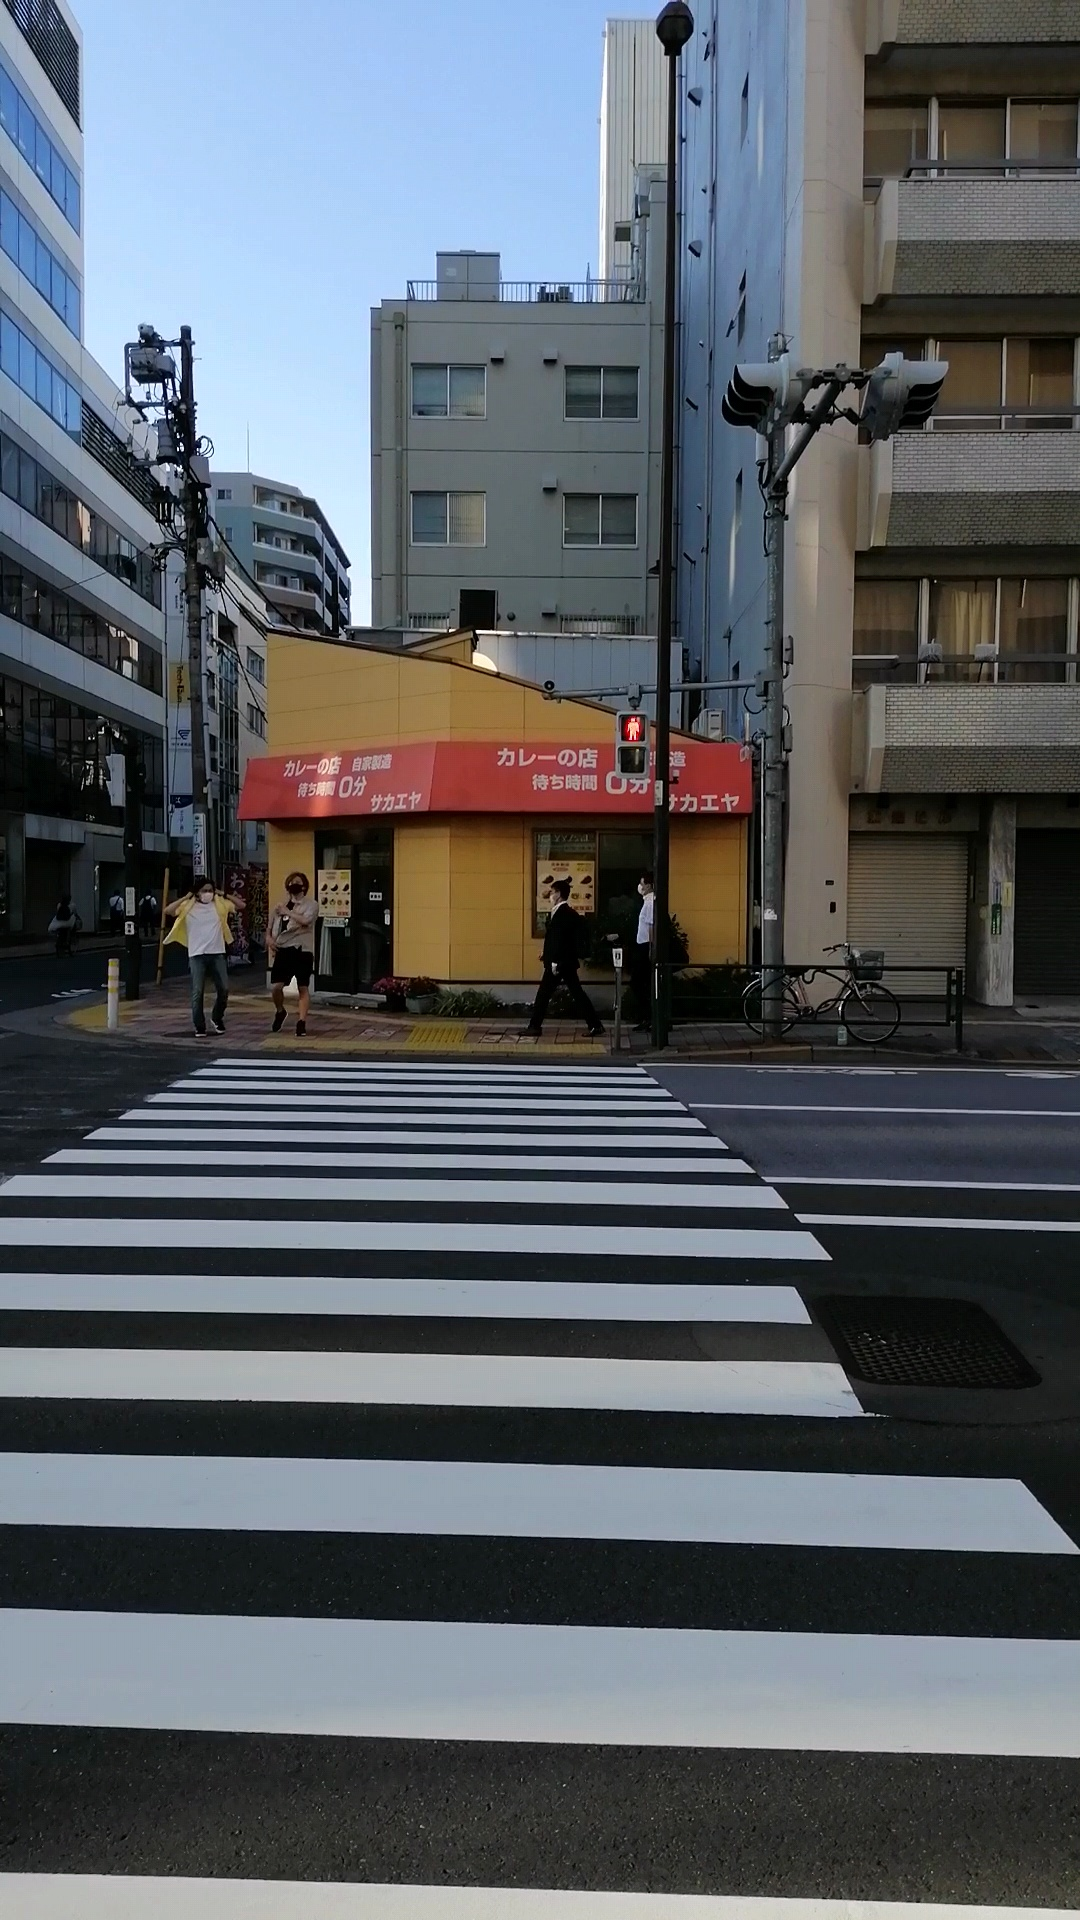red: (613, 709, 647, 781)
